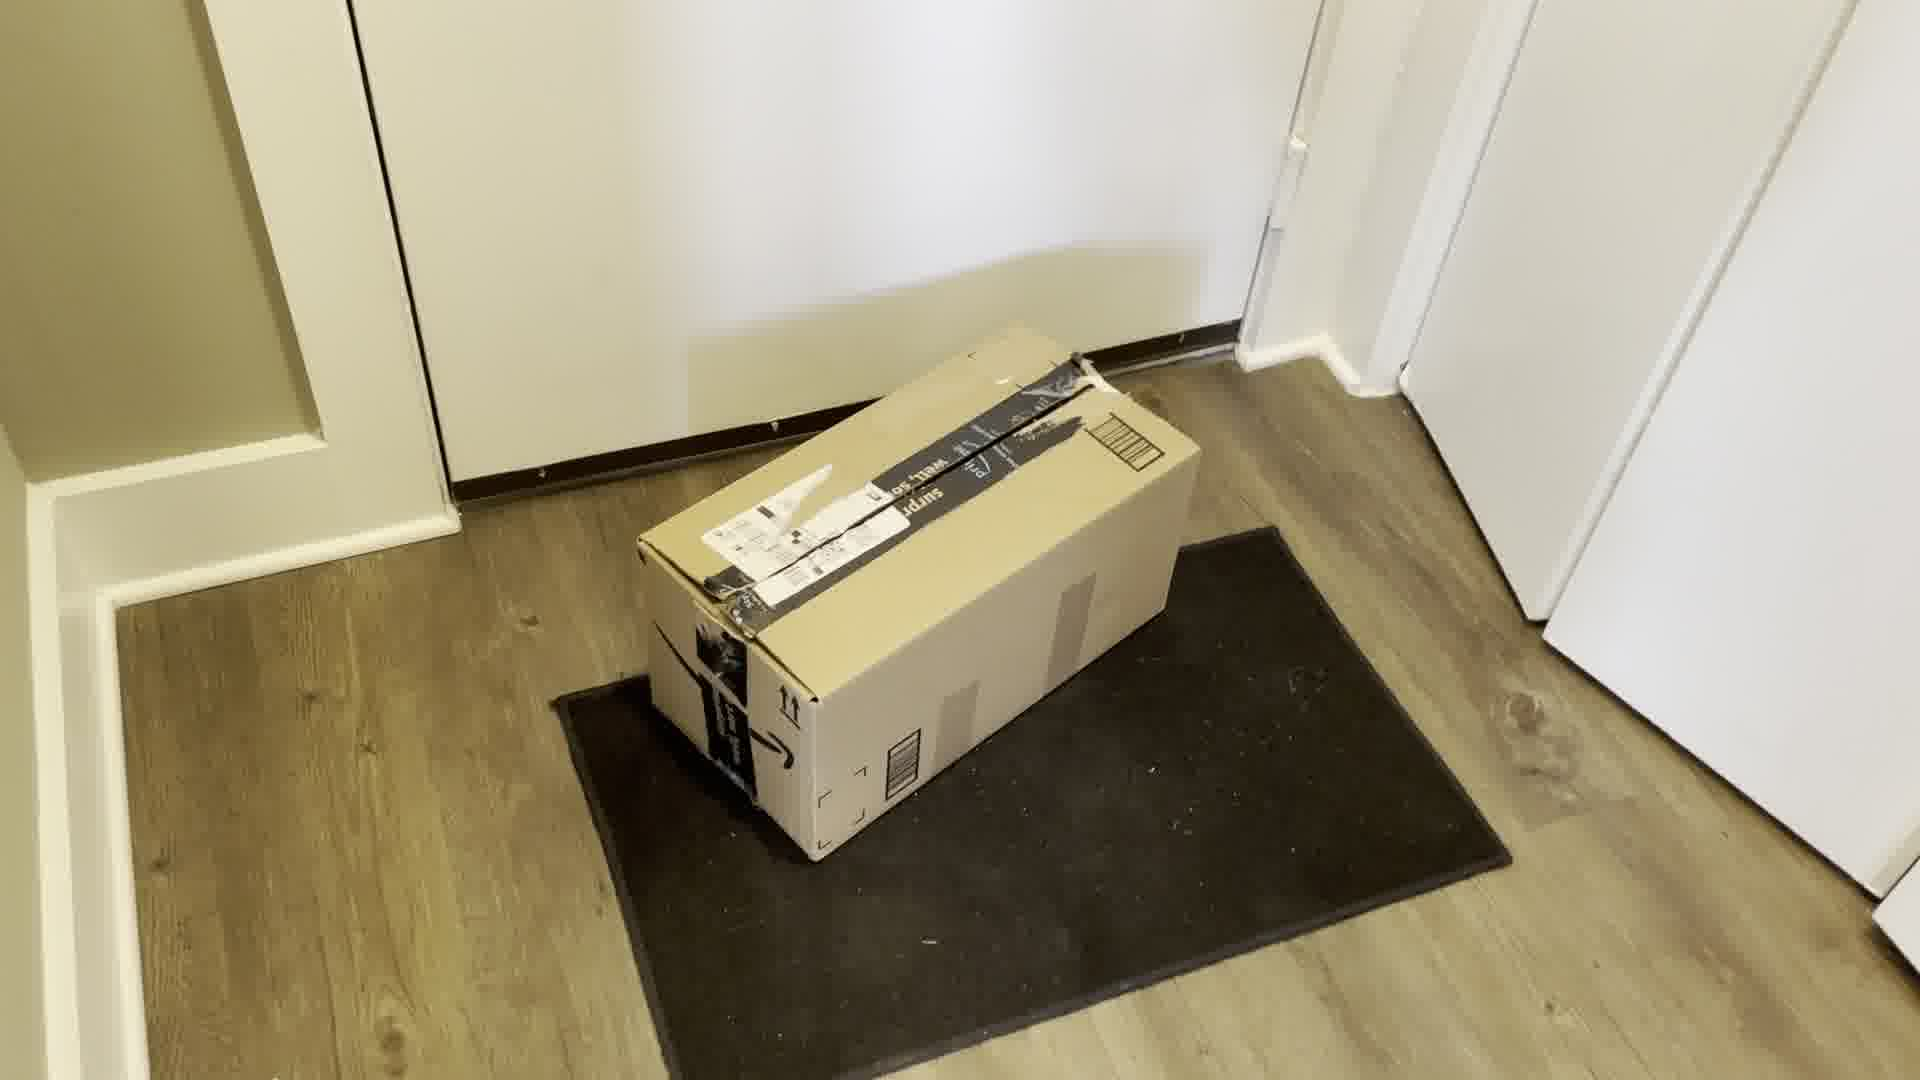box: (615, 322, 1195, 866)
